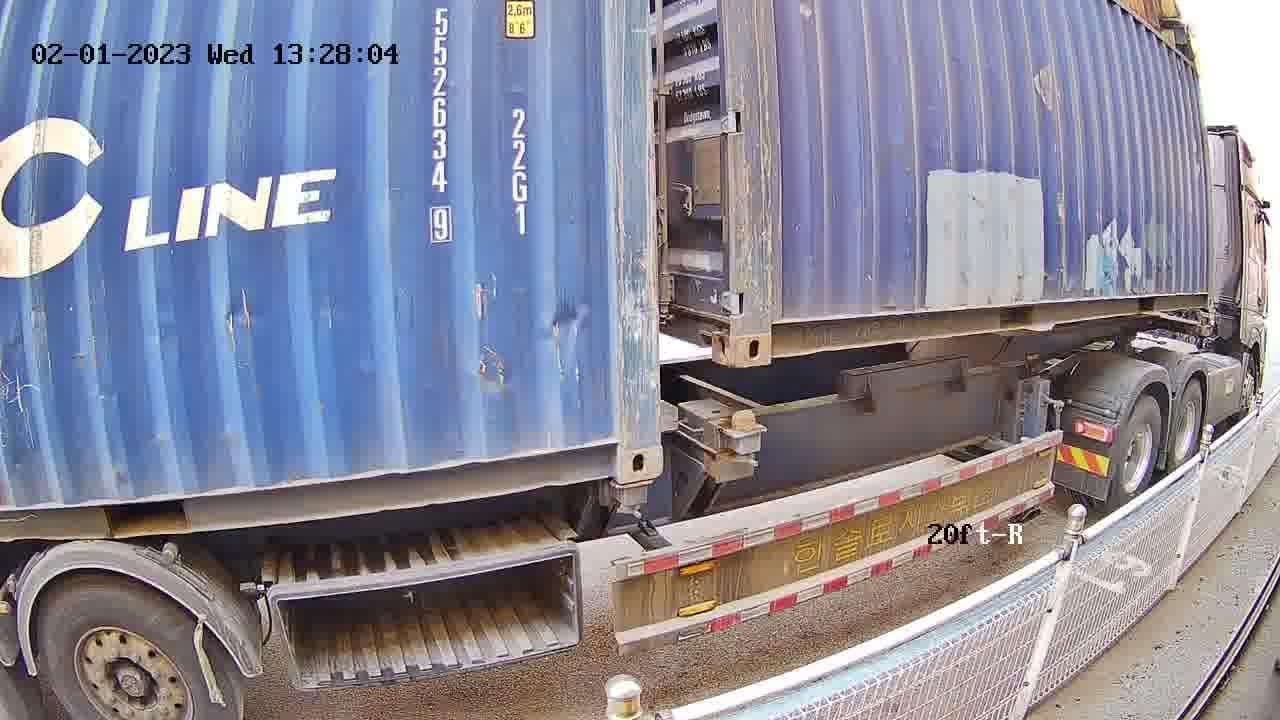Cone: (718, 410, 767, 468), (607, 480, 656, 519)
Hole_L: (734, 291, 810, 367)
Hole_R: (575, 397, 662, 482), (688, 281, 735, 367)
Tire: (39, 577, 238, 719), (1110, 397, 1162, 514), (1164, 378, 1202, 476)
